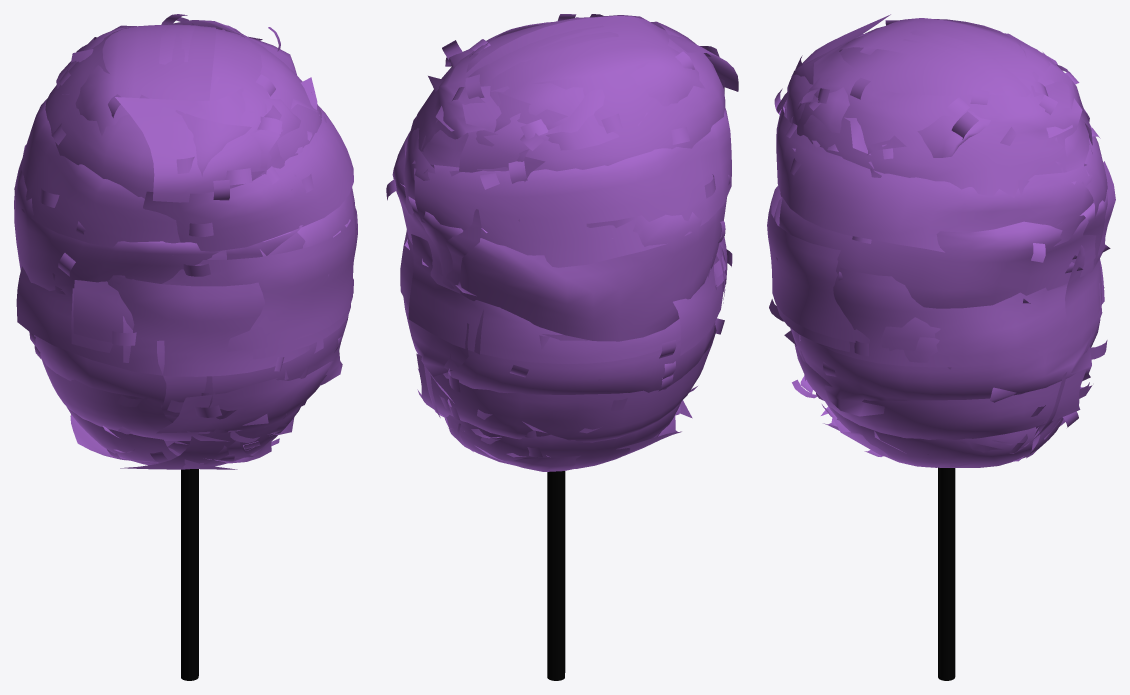
The model's file is tree1.obj.
The picture shows the model from 3 angles, left to right: view 1: azimuth 30°, elevation 25°; view 2: azimuth 150°, elevation 25°; view 3: azimuth 270°, elevation 25°; orthographic projection. The views are drawn at different scales.
Parts seen in each view (by area): view 1: group3 pasted__pasted__Green2 pasted__pasted__Cotton_candy paste, pasted__pCylinder2 group1; view 2: group3 pasted__pasted__Green2 pasted__pasted__Cotton_candy paste, pasted__pCylinder2 group1; view 3: group3 pasted__pasted__Green2 pasted__pasted__Cotton_candy paste, pasted__pCylinder2 group1.
Boxes of the visible parts, left/top/right/bottom form: group3 pasted__pasted__Green2 pasted__pasted__Cotton_candy paste: left=14, top=14, right=357, bottom=678; pasted__pCylinder2 group1: left=181, top=469, right=198, bottom=680; group3 pasted__pasted__Green2 pasted__pasted__Cotton_candy paste: left=386, top=14, right=738, bottom=672; pasted__pCylinder2 group1: left=547, top=471, right=564, bottom=680; group3 pasted__pasted__Green2 pasted__pasted__Cotton_candy paste: left=767, top=14, right=1115, bottom=676; pasted__pCylinder2 group1: left=938, top=467, right=955, bottom=680.
Size of the model in its own units: 4.67 by 9.81 by 4.94.
